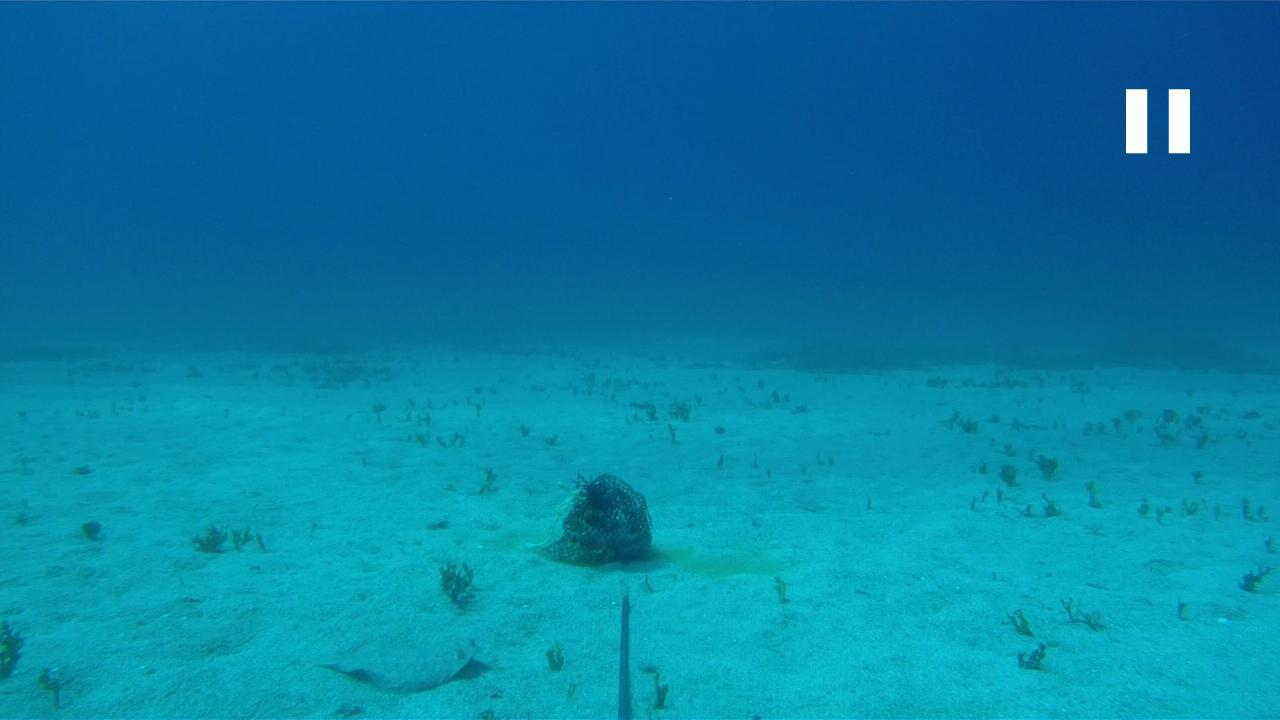bothus: (303, 631, 481, 696)
